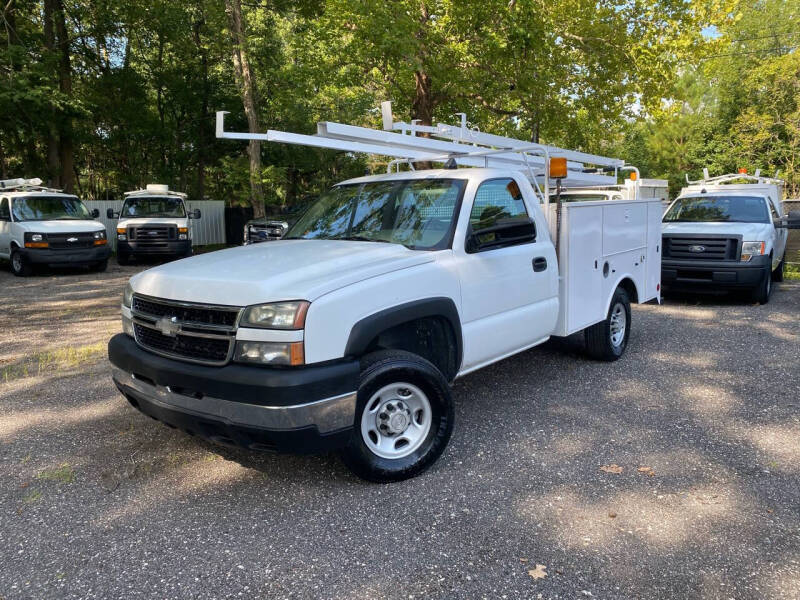car: (107, 146, 668, 481), (658, 176, 793, 304), (1, 176, 105, 282), (105, 181, 198, 271)
